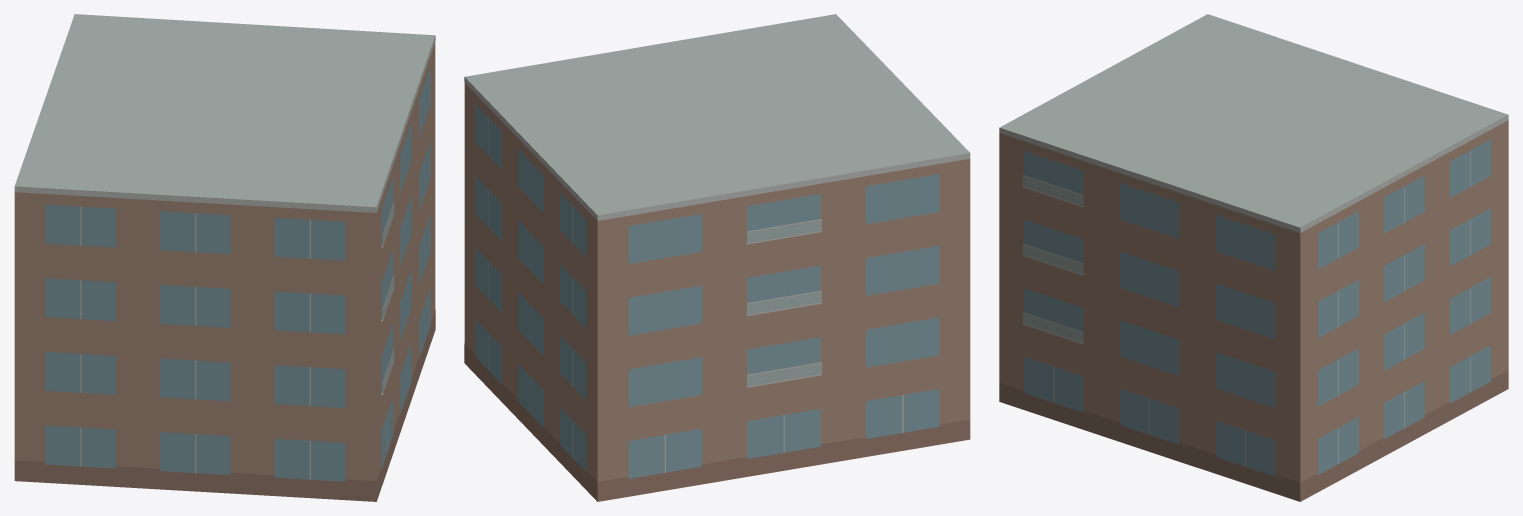
The model's file is survey-upis-32865669.glb.
3 renders of one model, left to right at view 1: azimuth 30°, elevation 25°; view 2: azimuth 150°, elevation 25°; view 3: azimuth 270°, elevation 25°, orthographic. The views are drawn at different scales.
Visible parts, largest first — view 1: survey-upis-32865669.tmp; view 2: survey-upis-32865669.tmp; view 3: survey-upis-32865669.tmp.
Boxes of the visible parts, left/top/right/bottom form: survey-upis-32865669.tmp: left=14, top=14, right=435, bottom=501; survey-upis-32865669.tmp: left=464, top=14, right=970, bottom=501; survey-upis-32865669.tmp: left=999, top=14, right=1508, bottom=501.
Bounding box in the file's own units: 20.91 × 12.5 × 21.05.
